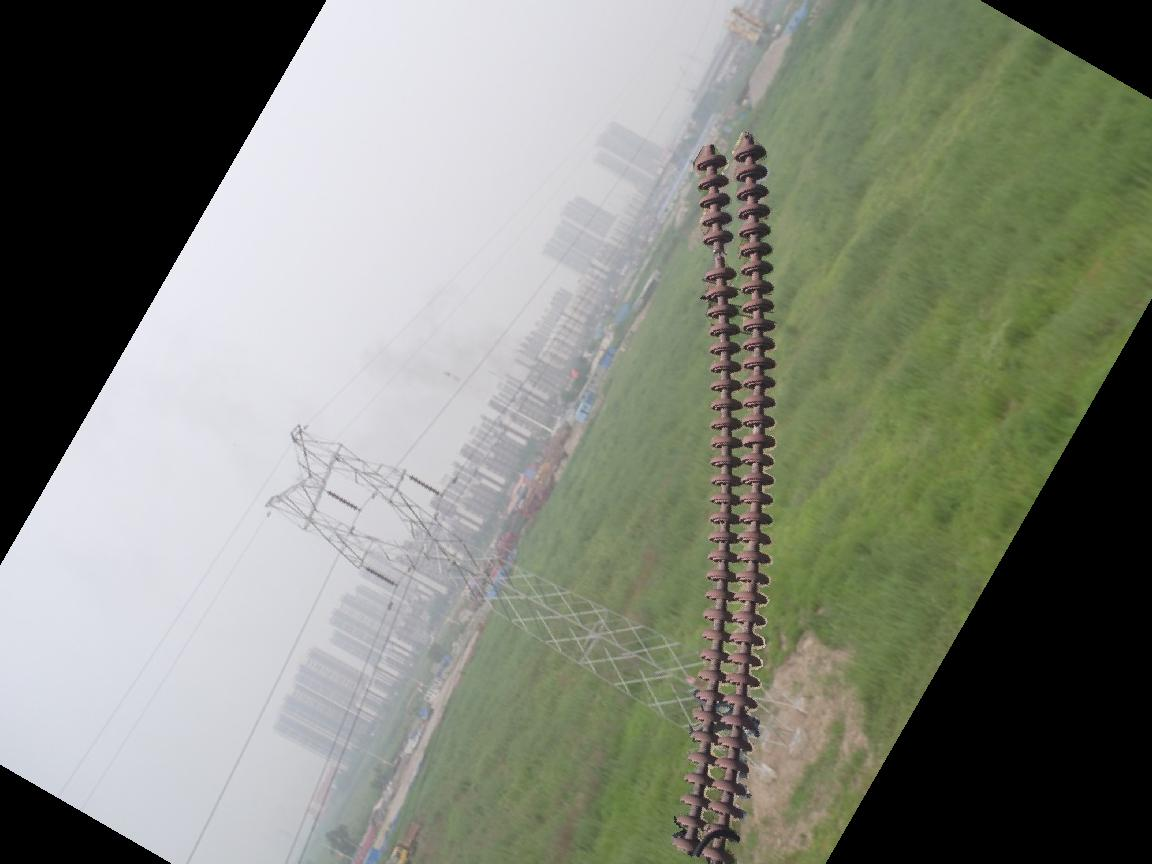insulator: (667, 136, 776, 864), (320, 485, 361, 515), (403, 470, 441, 502), (361, 562, 402, 591)
insulator_stringdrop: (699, 229, 739, 286)
